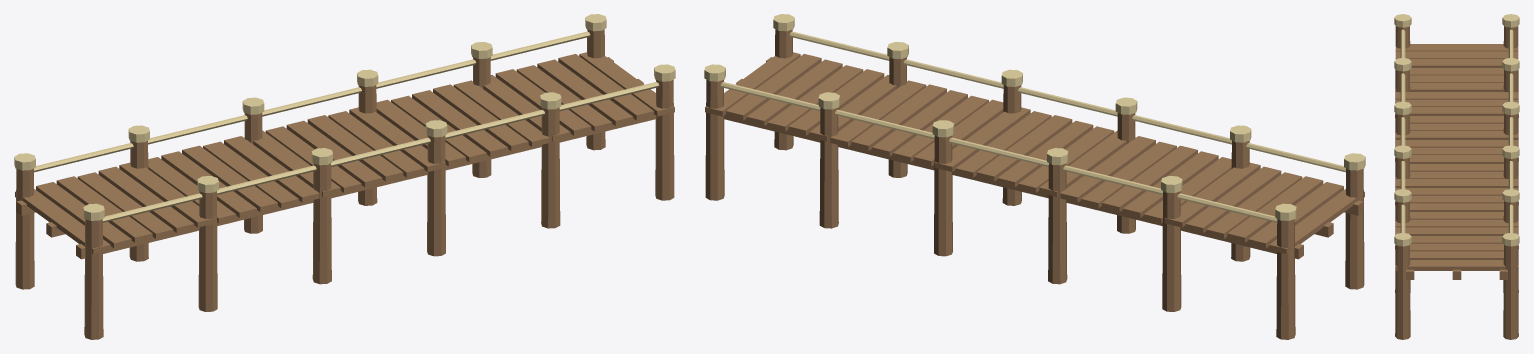
File: SM_Trop_WoodenPier_Dock.fbx
3 views of the same model, side by side, from view 1: azimuth 30°, elevation 25°; view 2: azimuth 150°, elevation 25°; view 3: azimuth 270°, elevation 25° (orthographic). The views are drawn at different scales.
Visible parts, largest first — view 1: SM_Trop_WoodenPier_Dock; view 2: SM_Trop_WoodenPier_Dock; view 3: SM_Trop_WoodenPier_Dock.
Part boxes in pixels (left/top/right/bottom): SM_Trop_WoodenPier_Dock: left=14, top=14, right=675, bottom=339; SM_Trop_WoodenPier_Dock: left=704, top=14, right=1365, bottom=339; SM_Trop_WoodenPier_Dock: left=1394, top=14, right=1519, bottom=339.
Bounding box in the file's own units: 1660 × 388 × 342.
